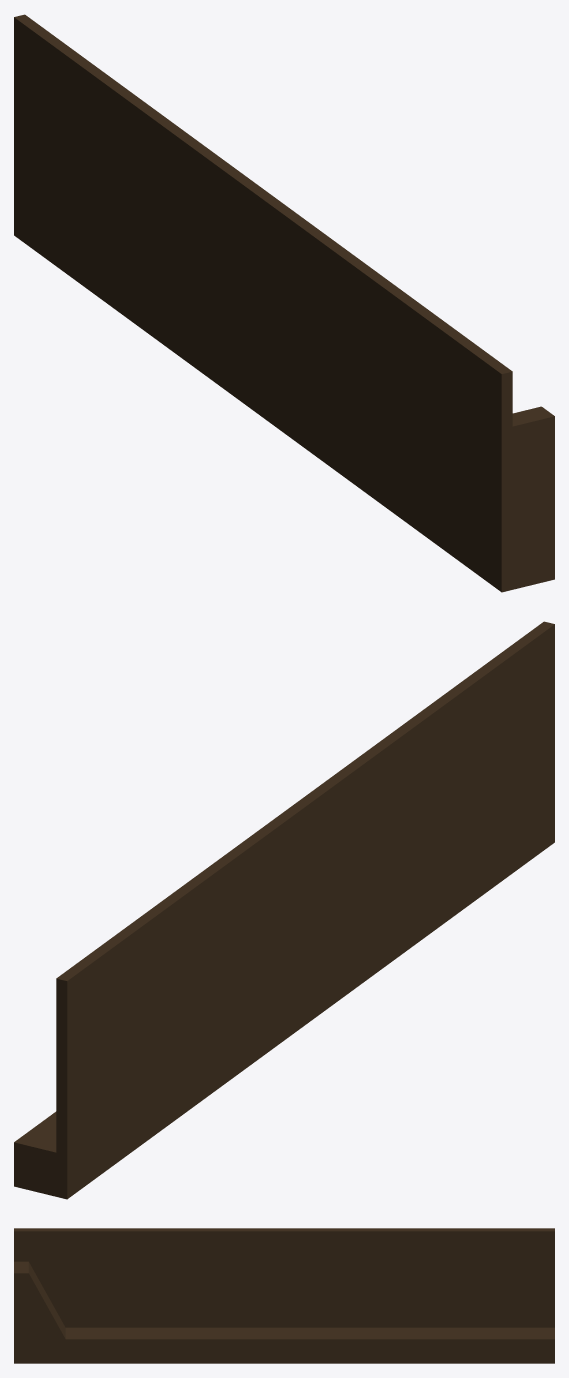
File: cave.dae
3 renders of one model, top to bottom at view 1: azimuth 30°, elevation 25°; view 2: azimuth 150°, elevation 25°; view 3: azimuth 270°, elevation 25°, orthographic. The views are drawn at different scales.
Visible parts, largest first — view 1: Cube; view 2: Cube; view 3: Cube.
Boxes of the visible parts, box(x1,y1,x2,y2) form: Cube: box(14, 14, 554, 592); Cube: box(14, 621, 554, 1199); Cube: box(14, 1228, 554, 1363).
Size of the model in its own units: 7.55 by 120 by 29.62.
